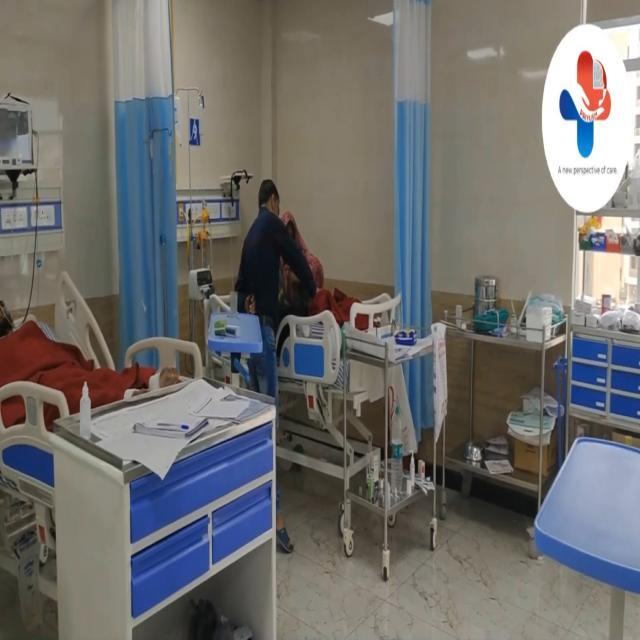Family-Member: (236, 168, 310, 544)
Patient: (280, 185, 369, 338), (0, 276, 92, 396)
